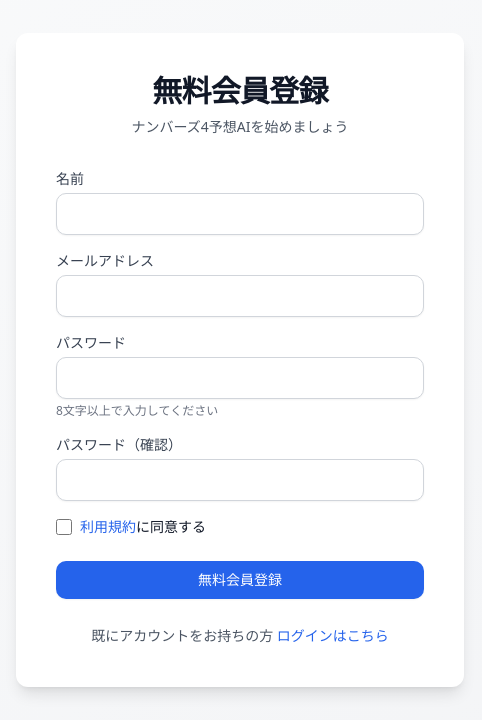
it: RegisterPage › パスワードが一致しない場合エラーが表示される
The image size is (482, 720).
Type "test@example.com" into the field labelled "メールアドレス" at coordinates (240, 296), box [56,275,424,317]
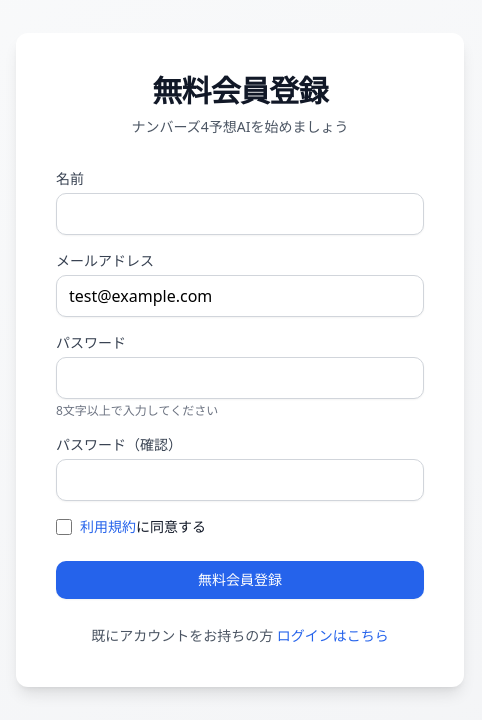
Type "password123" into the password field labelled "パスワード" at coordinates (240, 378), box [56,357,424,399]
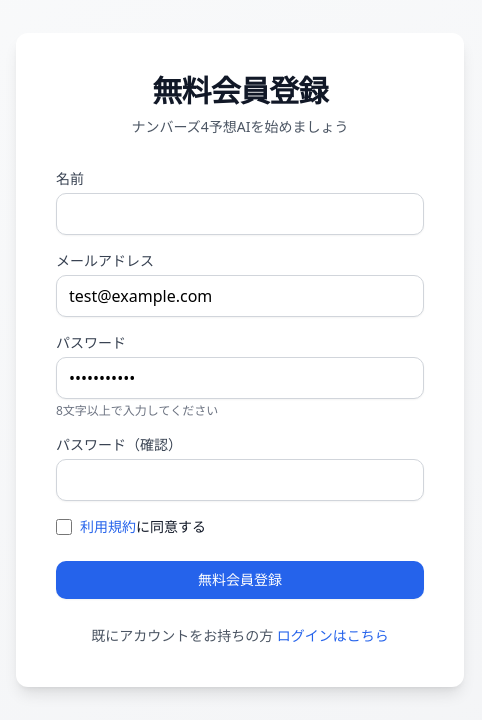
Type "password456" into the password field labelled "パスワード（確認）" at coordinates (240, 480), box [56,459,424,501]
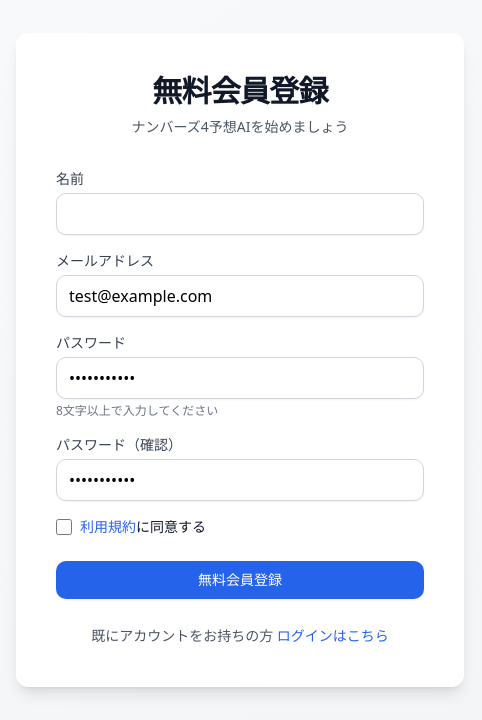
Click the checkbox named "利用規約に同意する" at coordinates (64, 527), box [56,519,72,535]
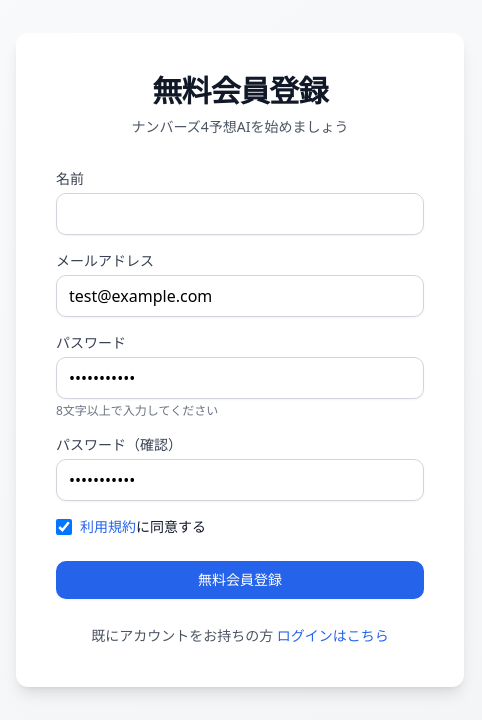
Click the button "無料会員登録" at coordinates (240, 580), box [56,561,424,599]
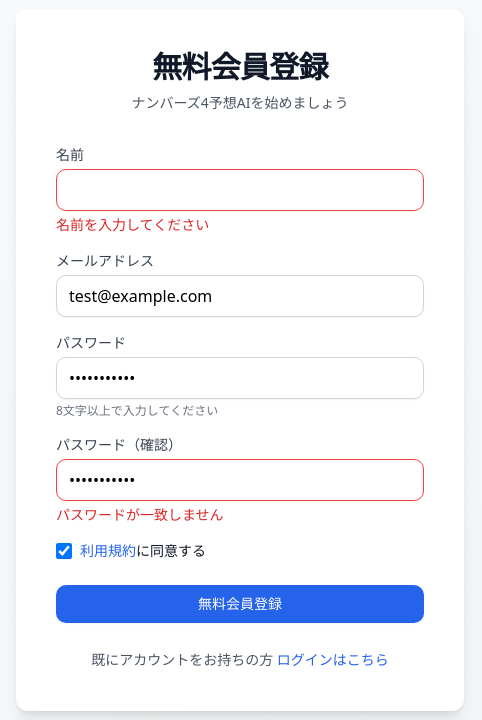
Check: the text "パスワードが一致しません" is shown, box [56,505,224,524]
